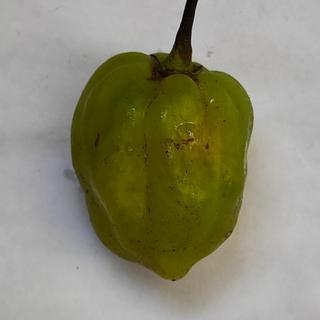Defect: (173, 136, 195, 151)
Fly-bites: (204, 142, 211, 151), (163, 149, 170, 156), (222, 118, 228, 124)
striped: (92, 129, 102, 151)
